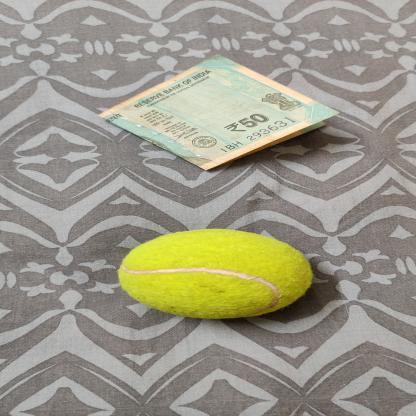New50Front: (96, 53, 344, 172)
